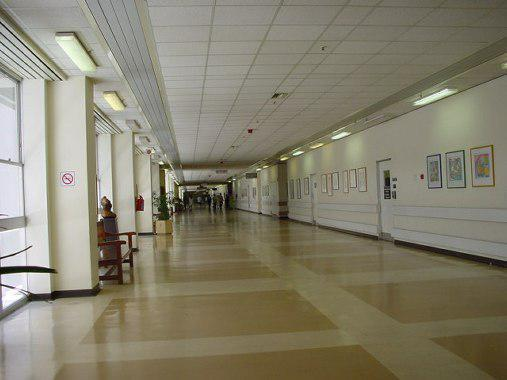Matera: (152, 191, 180, 236)
Puerta: (374, 161, 396, 243)
